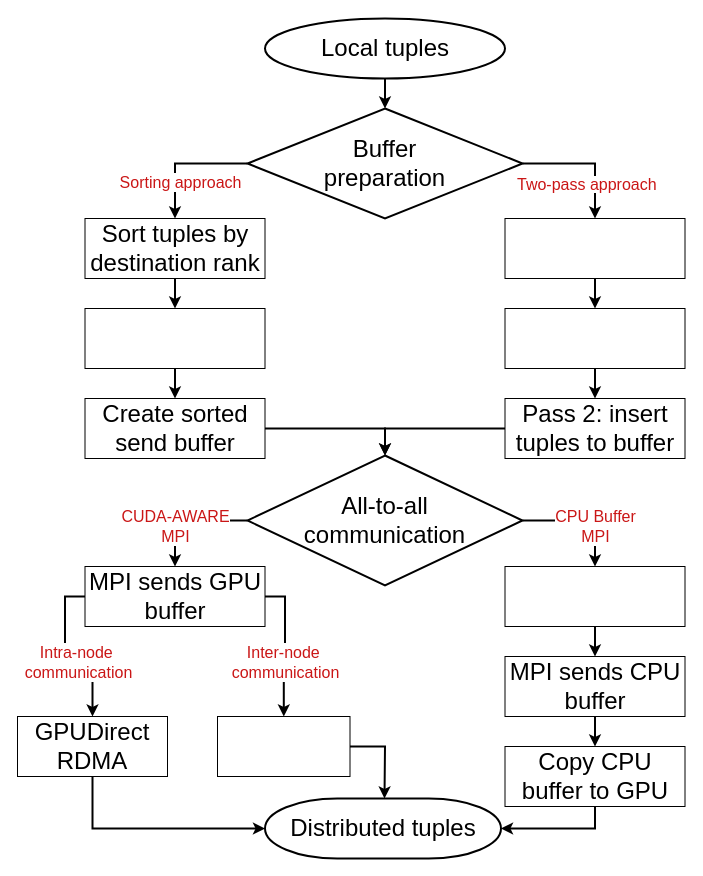
This 703x876 diagram has some shape labels left out. Each missing label, with the centre of its shape:
"Buffer offset calculation" goes at pixel 594 338.
"Copy GPU buffer to CPU" goes at pixel 594 596.
"NVLink" goes at pixel 283 746.
"Pass 1: count tuples (atomics)" goes at pixel 594 248.
"Reduce by join key" goes at pixel 174 338.
